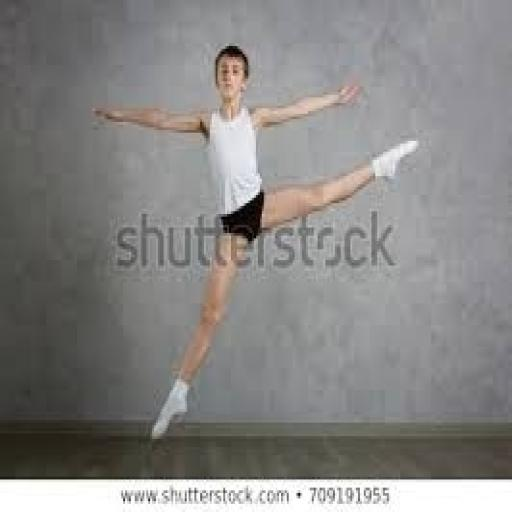dancing: (90, 41, 422, 444)
